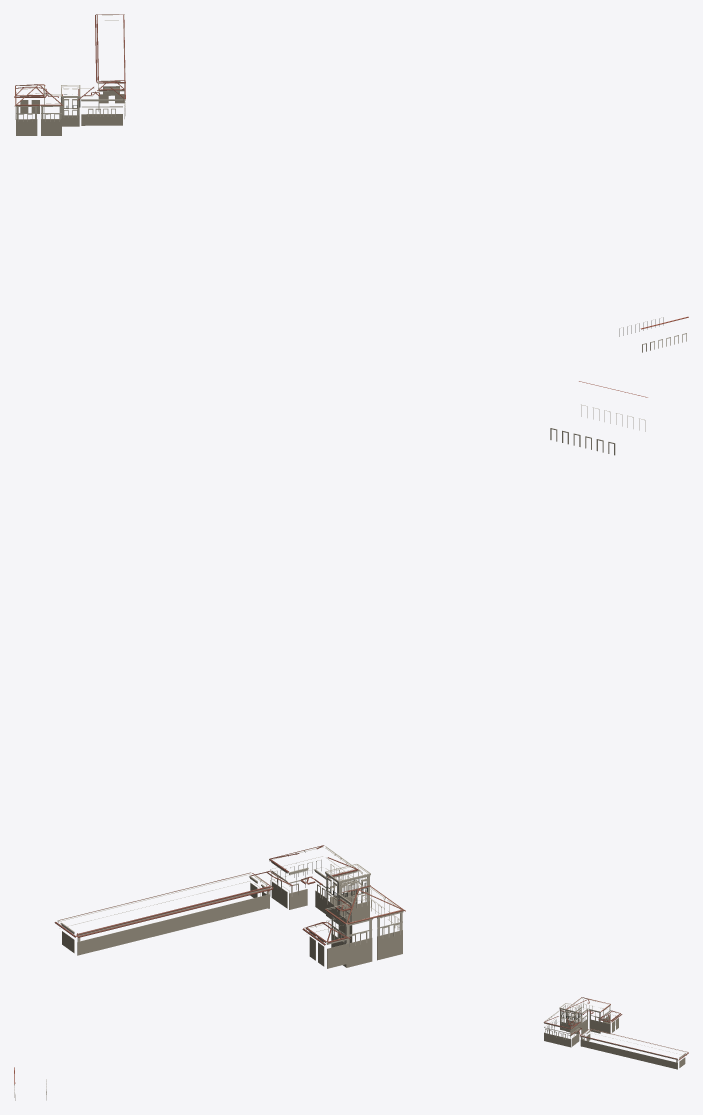
3 views of the same model, one above another, from view 1: azimuth 30°, elevation 25°; view 2: azimuth 150°, elevation 25°; view 3: azimuth 270°, elevation 25° (orthographic). The views are drawn at different scales.
Parts seen in each view (by area): view 1: detail; view 2: detail; view 3: detail.
Boxes of the visible parts, left/top/right/bottom form: detail: left=14, top=14, right=688, bottom=352; detail: left=54, top=381, right=647, bottom=968; detail: left=14, top=997, right=688, bottom=1100.
Bounding box in the file's own units: 96.94 × 14.57 × 287.
